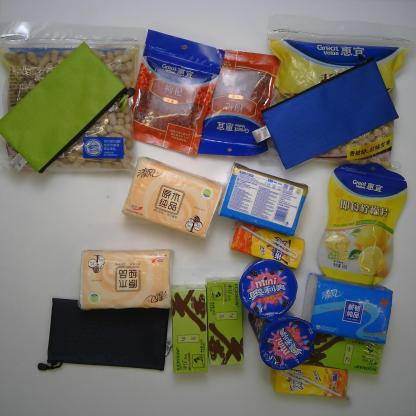Dessert: (247, 300, 316, 373), (235, 254, 299, 322)
Dried Food: (258, 12, 414, 174), (0, 19, 147, 181)
Dried Fruit: (122, 28, 226, 157), (316, 161, 410, 285), (183, 47, 281, 157)
Drink: (228, 220, 306, 270), (268, 363, 353, 400)
Instant Drink: (166, 281, 210, 375), (203, 271, 244, 368), (305, 328, 386, 375)
Stationery: (0, 41, 129, 174), (251, 58, 401, 170), (37, 296, 174, 376)
Tissue: (120, 154, 226, 243), (218, 161, 309, 239), (301, 272, 394, 346), (77, 249, 176, 314)
